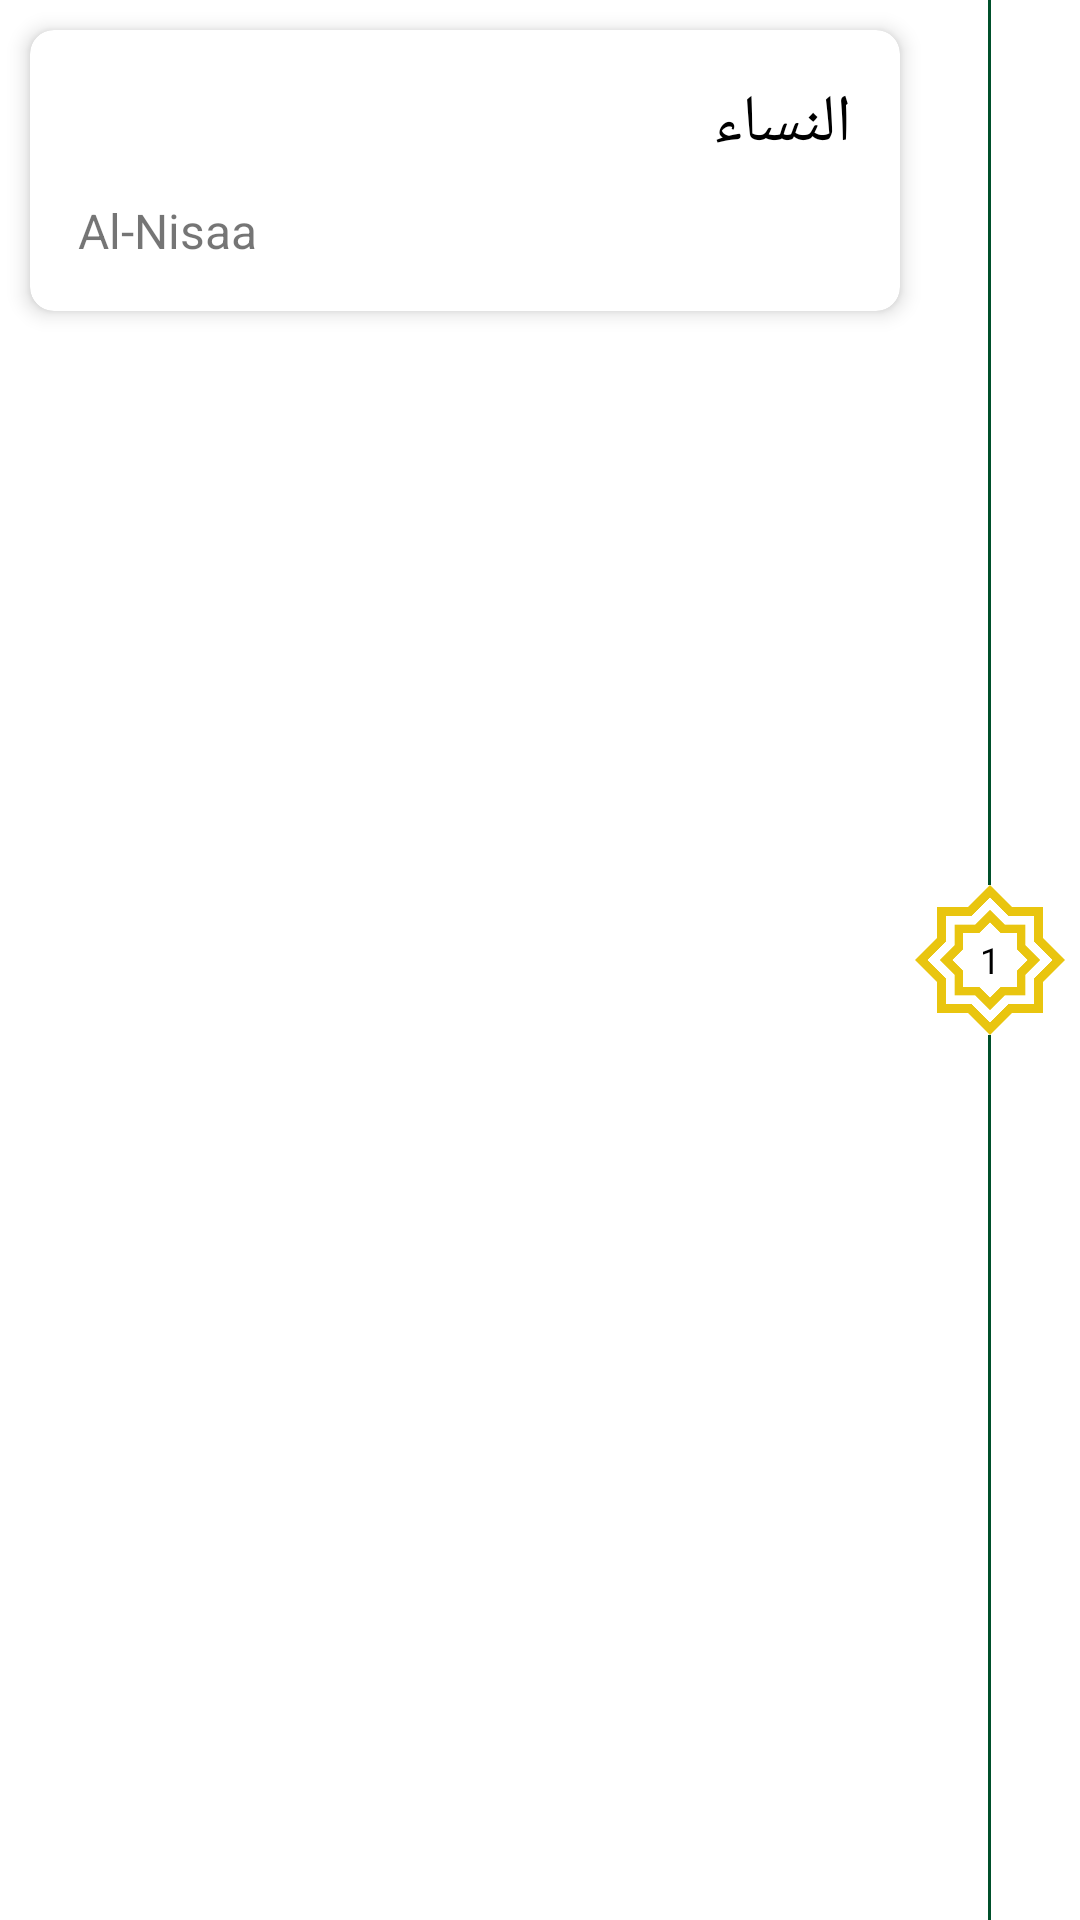

Where icons sit on this 1080px x 1920px app screen, as BBox(x1, y1, x2, y2):
star: BBox(915, 885, 1065, 1035)
